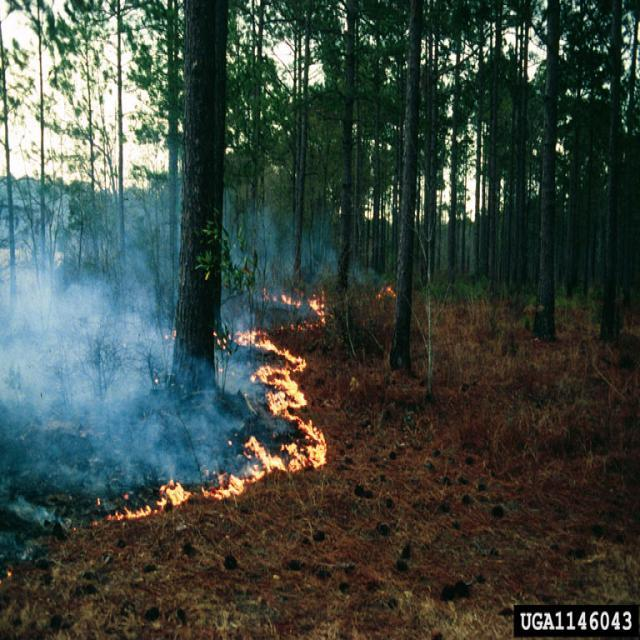Fire: (107, 287, 328, 522)
